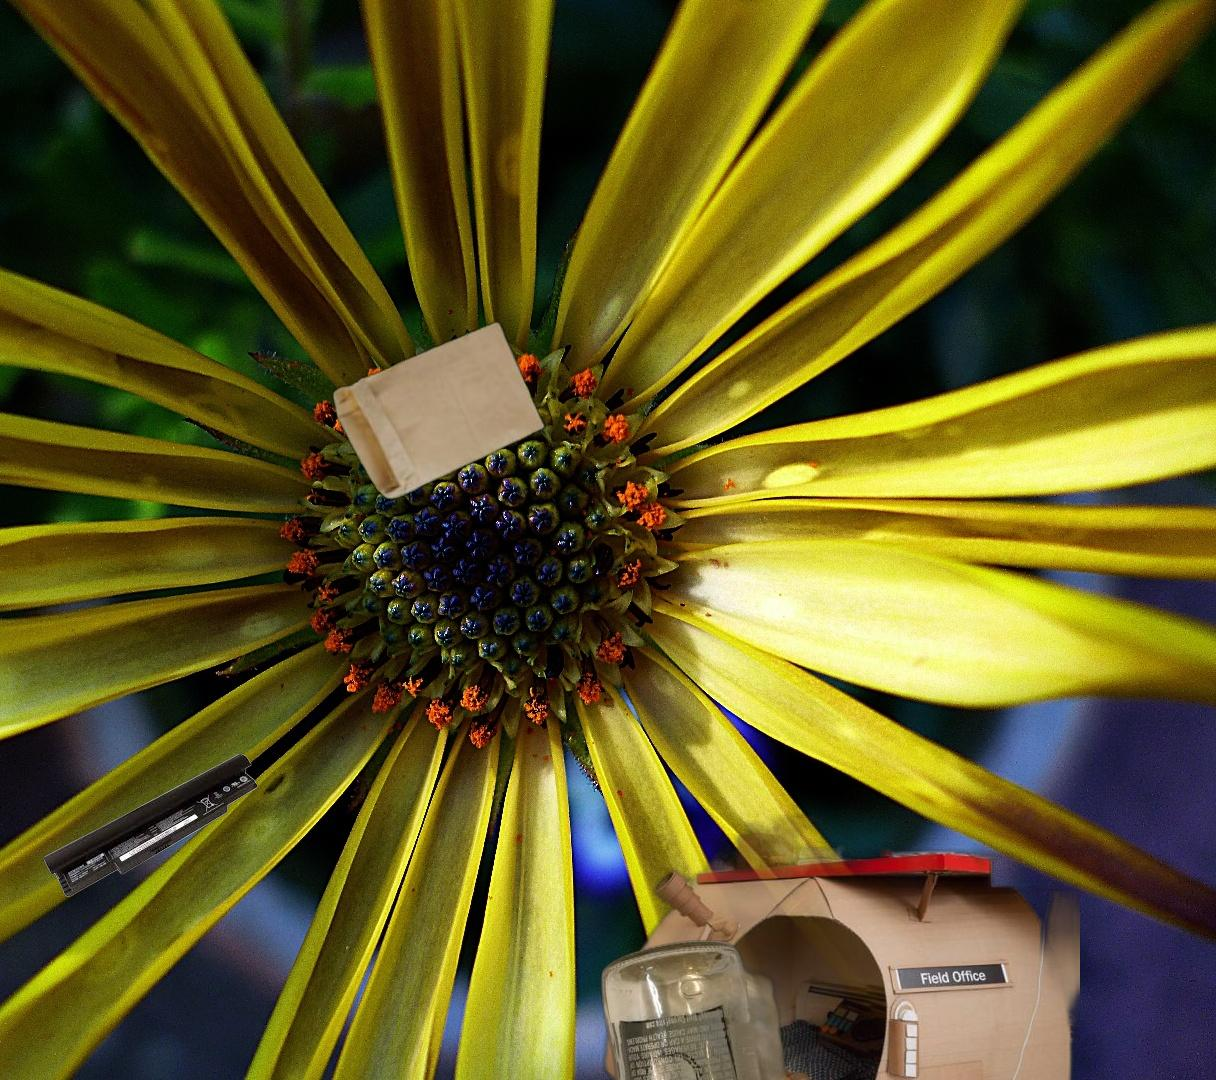battery: (41, 751, 260, 900)
glass: (597, 937, 840, 1080)
paper-bag: (329, 318, 548, 504)
trashbox-cardboard: (595, 732, 1079, 1080)
